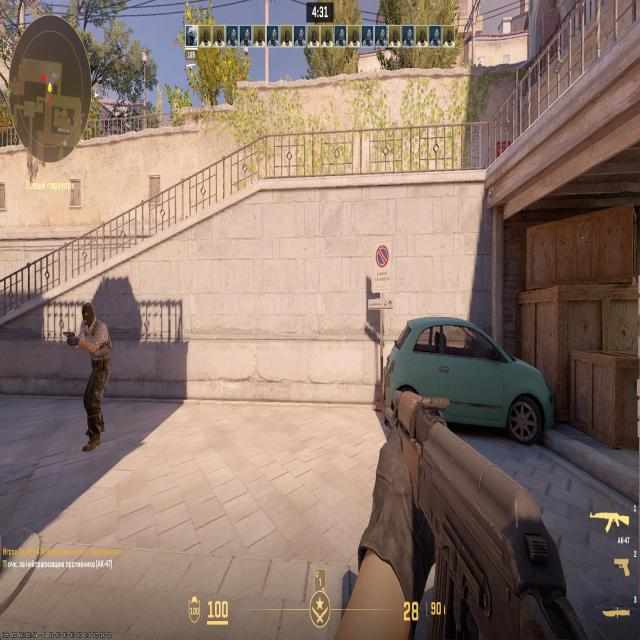T: (84, 310, 107, 410)
T_heat: (88, 316, 97, 338)
